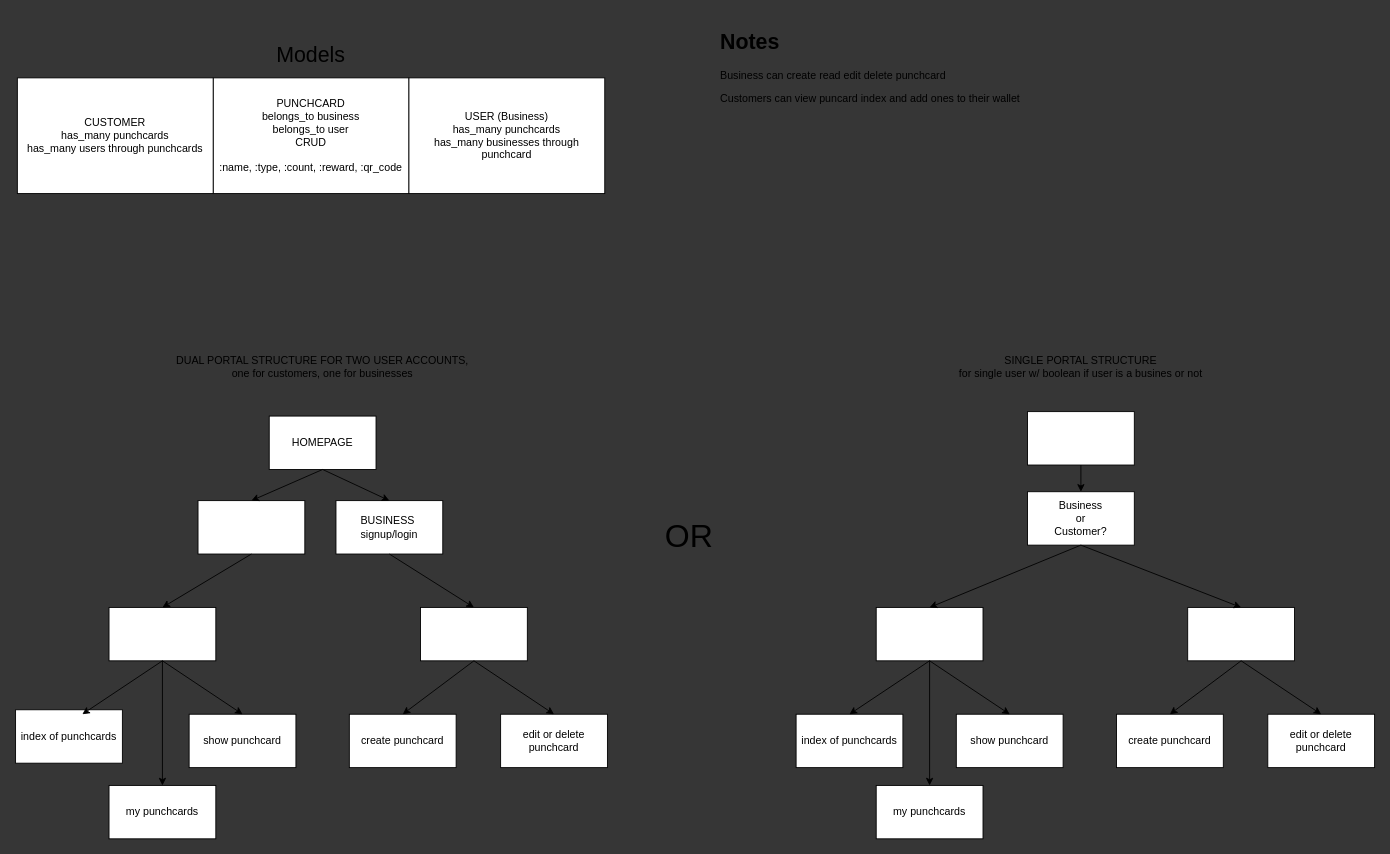
Some shapes in this 1390 by 854 pixel diagram are drawn without their labels. Each missing label, with the centre of its shape:
"BUSINESS" belongs at point 1241,634.
"BUSINESS HOME" belongs at point 473,634.
"CUSTOMER" belongs at point 929,634.
"CUSTOMER HOME" belongs at point 162,634.
"CUSTOMER signup/login" belongs at point 251,527.
"HOME login/signup" belongs at point 1080,438.
